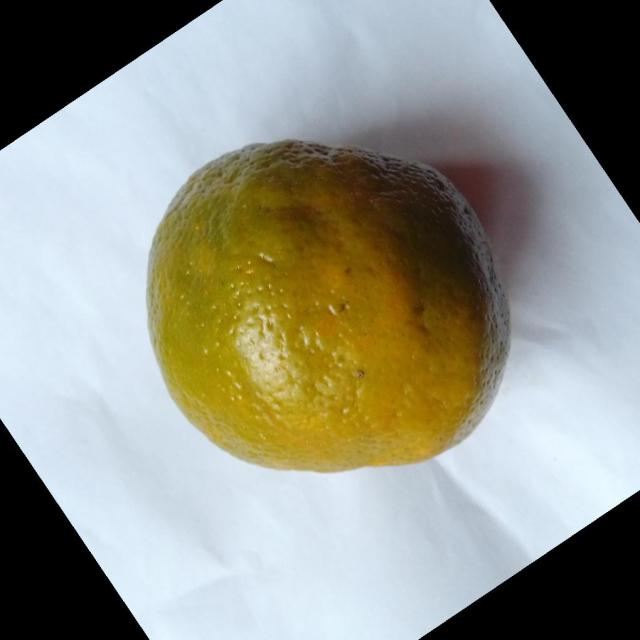fresh orange: (144, 137, 512, 474)
